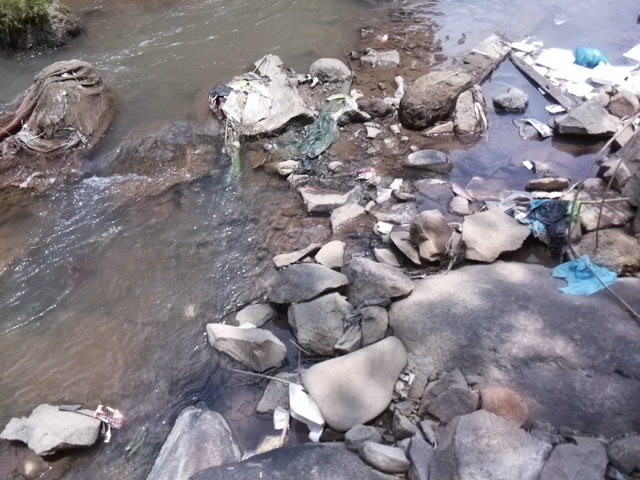Sampah_Plastik: (517, 192, 589, 251), (550, 255, 618, 297), (575, 45, 610, 71), (355, 165, 375, 182)
Sampah_Styrofoam: (283, 380, 328, 447)
